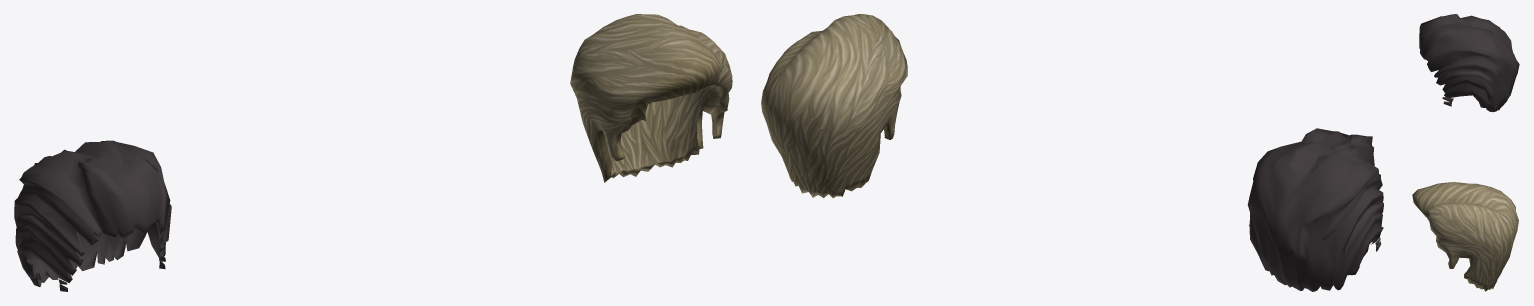
File: hair.fbx
3 views of the same model, side by side, from view 1: azimuth 30°, elevation 25°; view 2: azimuth 150°, elevation 25°; view 3: azimuth 270°, elevation 25° (orthographic). The views are drawn at different scales.
Parts seen in each view (by area): view 1: Hair.002, polySurface87.001; view 2: Hair.002, polySurface87.001; view 3: Hair.002, polySurface87.001.
Part boxes in pixels (x1,y1,x2,y2): Hair.002: (570, 14, 732, 182); polySurface87.001: (14, 140, 171, 291); Hair.002: (761, 14, 907, 198); polySurface87.001: (1247, 128, 1383, 291); Hair.002: (1412, 182, 1518, 291); polySurface87.001: (1419, 14, 1519, 111).
Size of the model in its own units: 1704 by 432 by 396.
